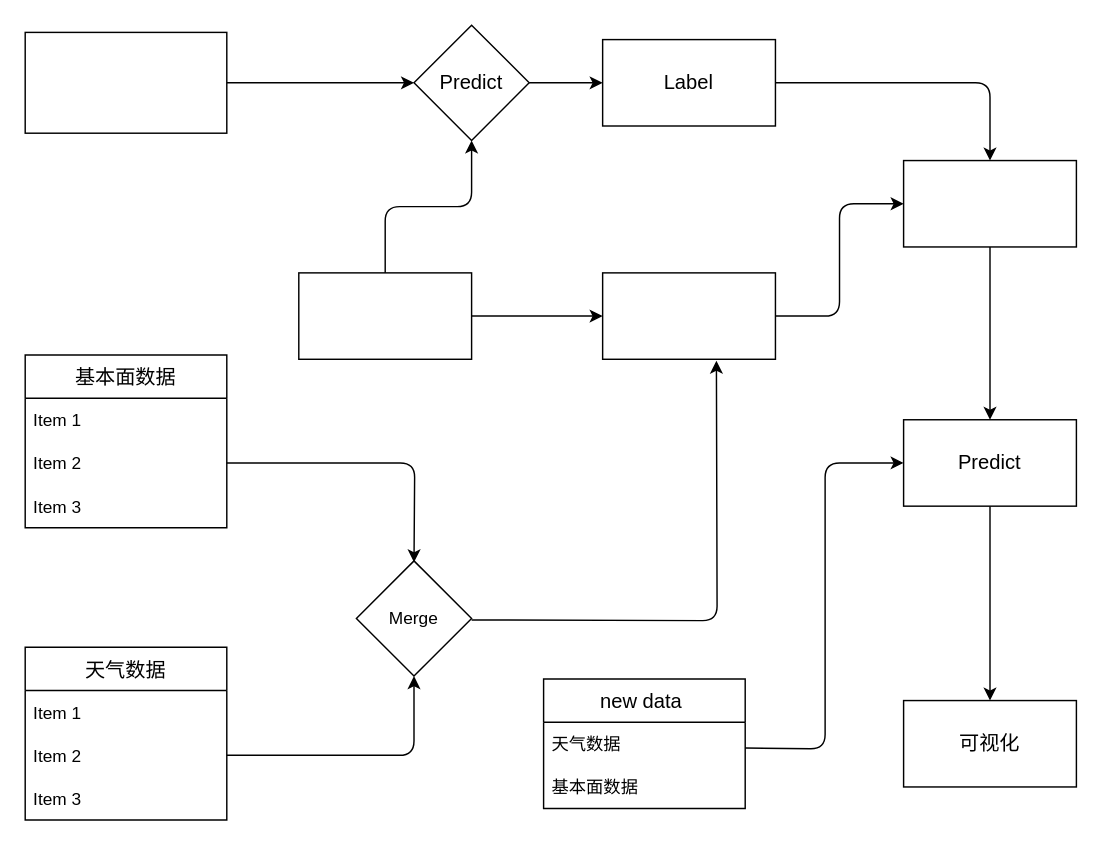
This 1102x845 diagram has some shape labels left out. Each missing label, with the centre of its shape:
"Kmeans Model" belongs at point 125,82.
"Kmeans 历史数据" belongs at point 384,315.
"KNN" belongs at point 989,203.
"根据时间选择" belongs at point 688,315.
